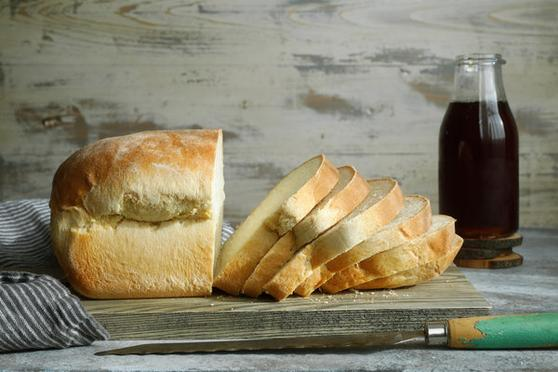white_bread: (46, 125, 222, 299)
